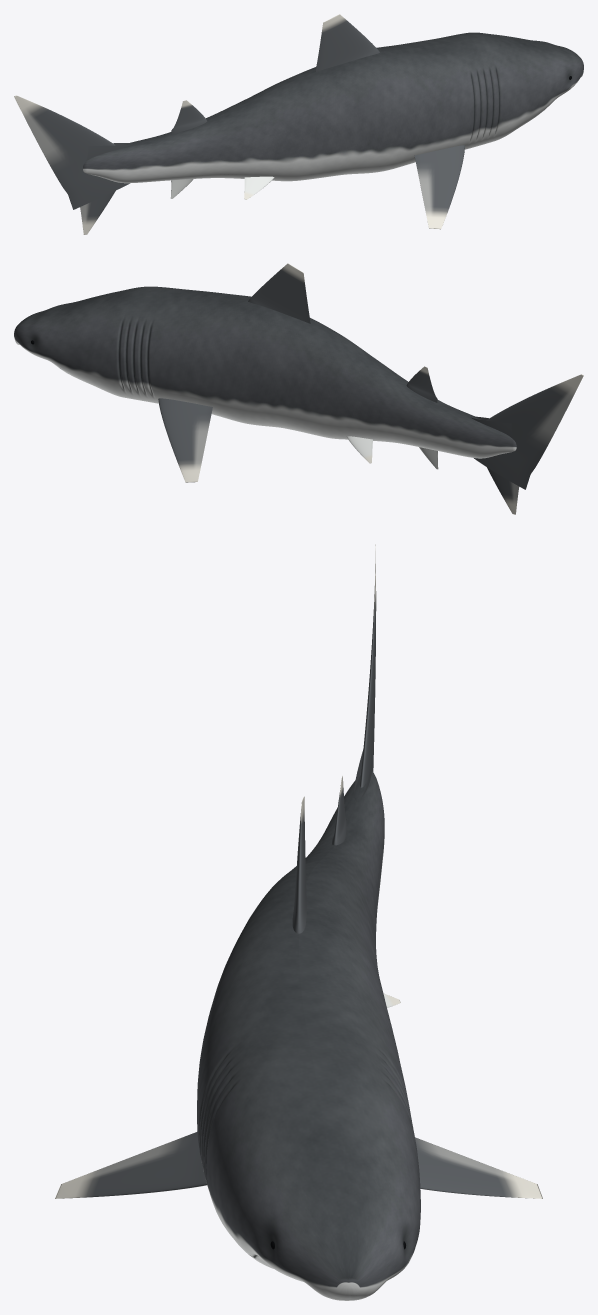
The model's file is silvertip_shark.glb.
3 renders of one model, top to bottom at view 1: azimuth 30°, elevation 25°; view 2: azimuth 150°, elevation 25°; view 3: azimuth 270°, elevation 25°, orthographic. The views are drawn at different scales.
Parts seen in each view (by area): view 1: silvertip_shark_Body, silvertip_shark_Fins; view 2: silvertip_shark_Body, silvertip_shark_Fins; view 3: silvertip_shark_Body, silvertip_shark_Fins.
Boxes of the visible parts, left/top/right/bottom form: silvertip_shark_Body: left=83, top=32, right=583, bottom=183; silvertip_shark_Fins: left=14, top=14, right=464, bottom=234; silvertip_shark_Body: left=14, top=286, right=516, bottom=458; silvertip_shark_Fins: left=158, top=263, right=583, bottom=514; silvertip_shark_Body: left=197, top=771, right=420, bottom=1300; silvertip_shark_Fins: left=55, top=544, right=542, bottom=1198.
Size of the model in its own units: 2.2 by 0.6736 by 0.83.
Materials: 3 (1 with a texture image).
